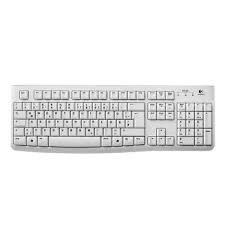keyboard: (7, 75, 225, 160)
